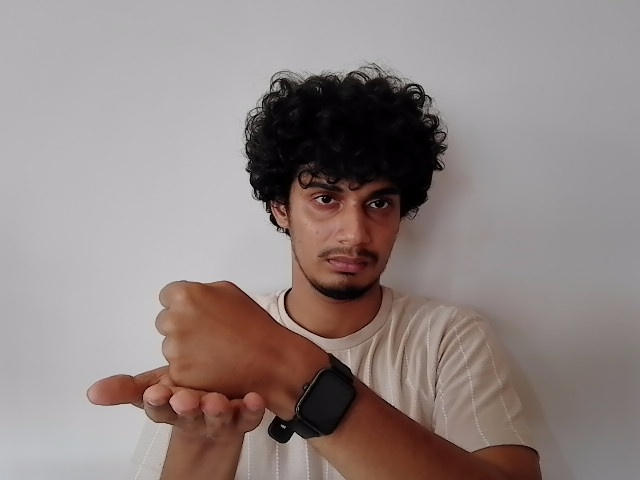help: (85, 274, 291, 432)
